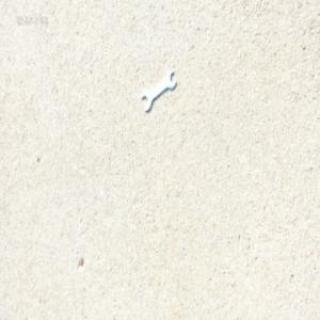Wrenchtrack_idkeyframe: (141, 71, 176, 112)
